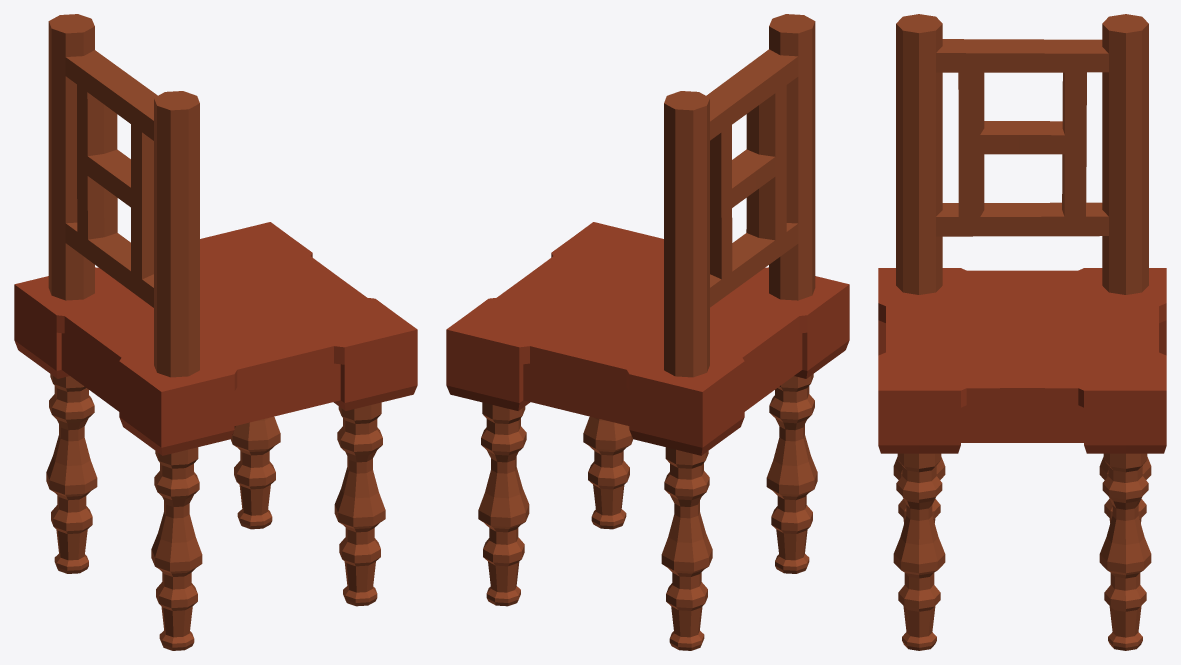
Rendered from chair.fbx.
The picture shows the model from 3 angles, left to right: view 1: azimuth 30°, elevation 25°; view 2: azimuth 150°, elevation 25°; view 3: azimuth 270°, elevation 25°; orthographic projection.
Visible parts, largest first — view 1: Stuhl; view 2: Stuhl; view 3: Stuhl.
Part boxes in pixels (x1,y1,x2,y2): Stuhl: (14, 14, 417, 650); Stuhl: (446, 14, 849, 650); Stuhl: (878, 14, 1166, 650).
Bounding box in the file's own units: 546 × 1107 × 543.
